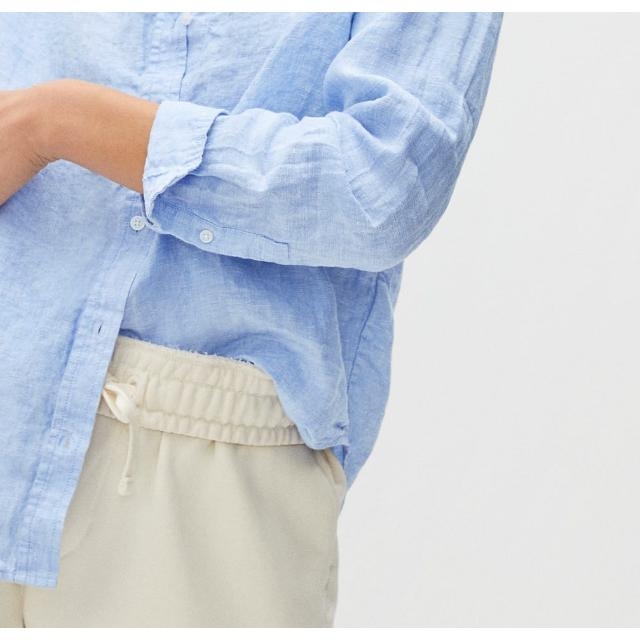linen: (0, 12, 526, 340)
